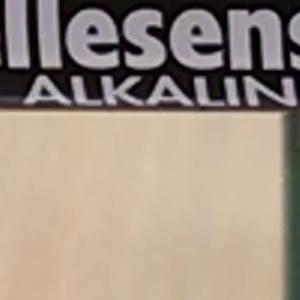ALK: (13, 66, 141, 115)
